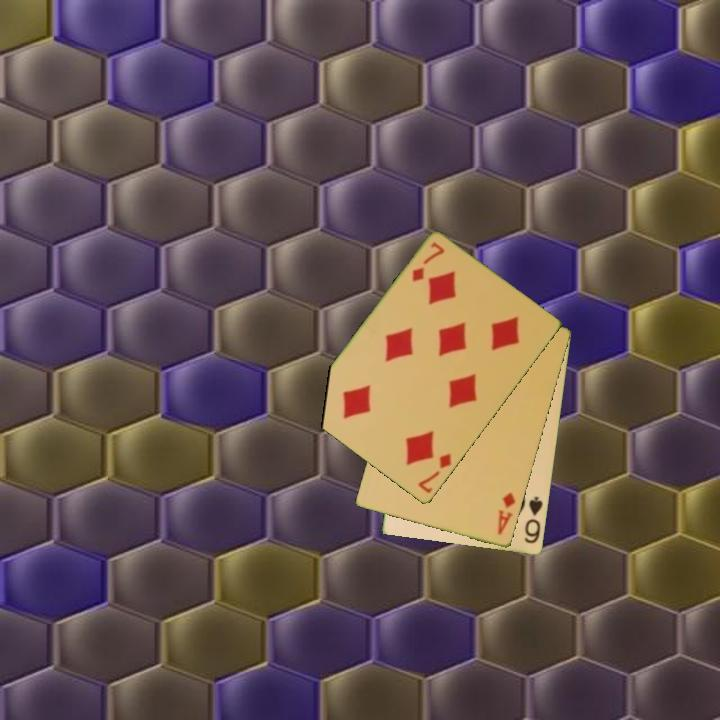6s: (521, 493, 546, 547)
7d: (415, 450, 455, 497), (408, 239, 448, 285)
Ad: (494, 489, 518, 538)
